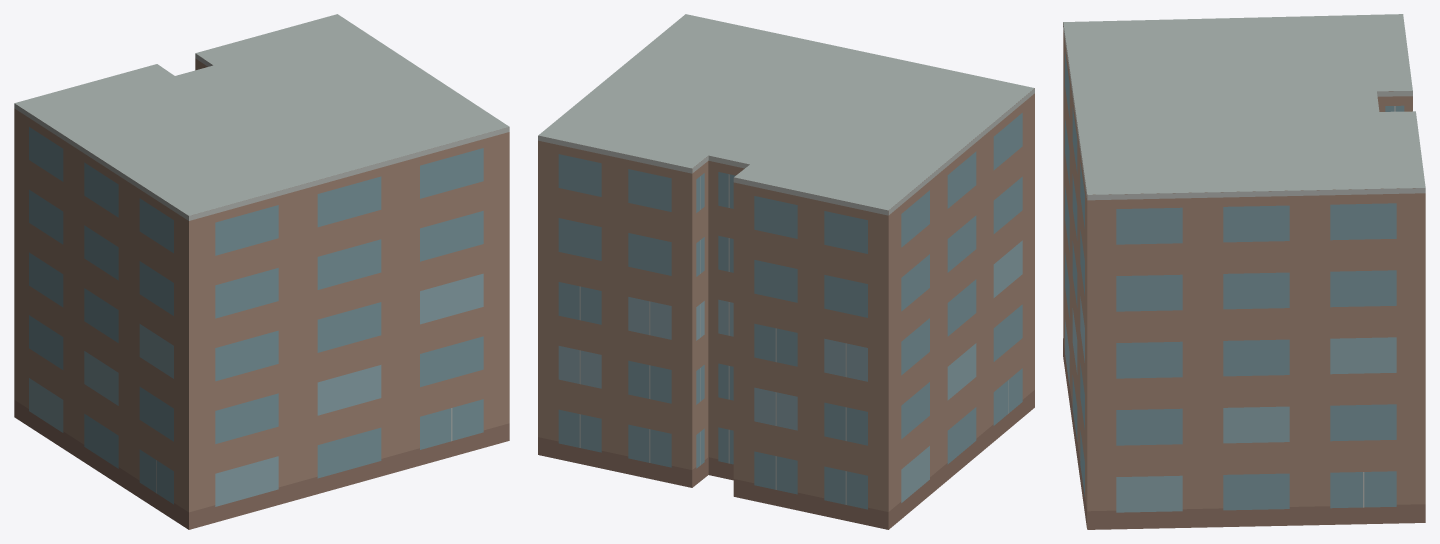
The model's file is survey-upis-32738403.glb.
The picture shows the model from 3 angles, left to right: view 1: azimuth 30°, elevation 25°; view 2: azimuth 150°, elevation 25°; view 3: azimuth 270°, elevation 25°; orthographic projection. The views are drawn at different scales.
Visible parts, largest first — view 1: survey-upis-32738403.tmp; view 2: survey-upis-32738403.tmp; view 3: survey-upis-32738403.tmp.
Boxes of the visible parts, <box> form: survey-upis-32738403.tmp: <box>14,14,509,529</box>; survey-upis-32738403.tmp: <box>538,14,1034,529</box>; survey-upis-32738403.tmp: <box>1063,14,1425,529</box>.
Bounding box in the file's own units: 17.5 × 15.1 × 14.82.
